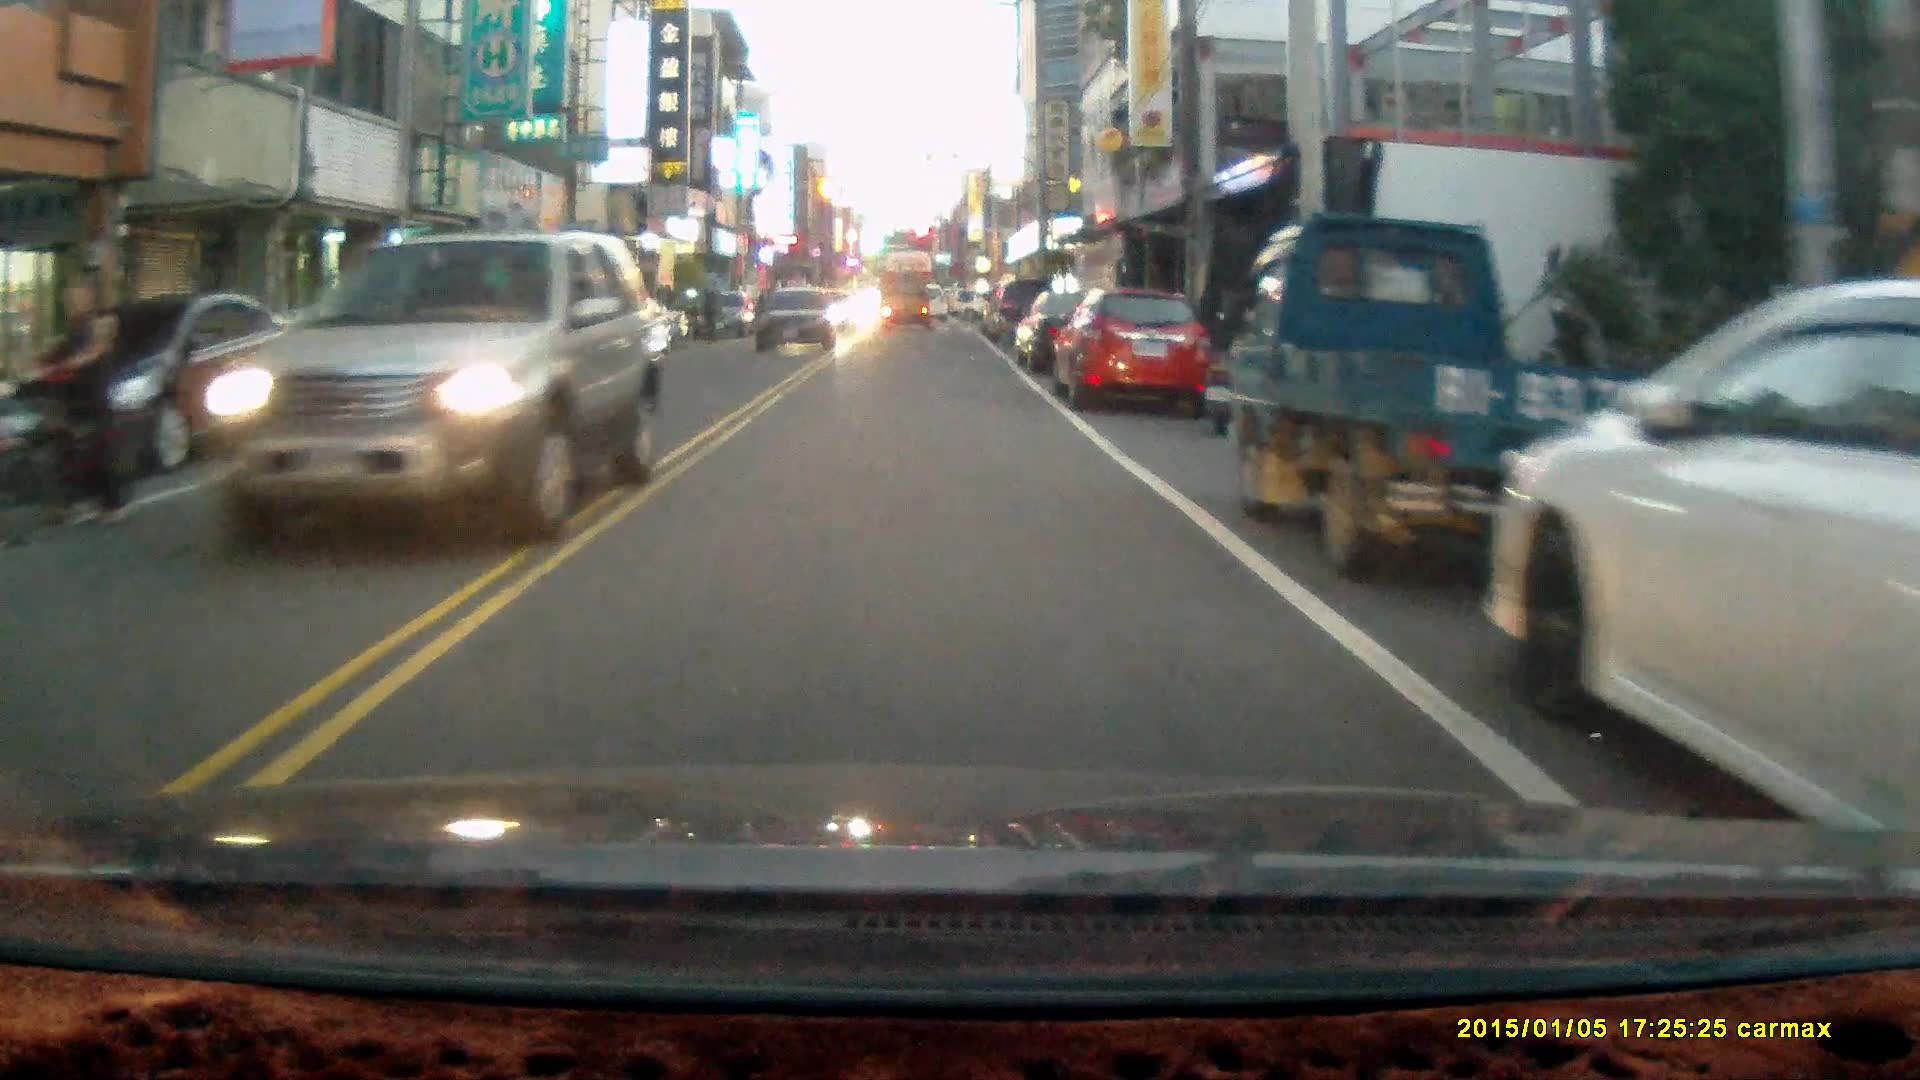pedestrian: (699, 279, 722, 344)
rider: (0, 268, 147, 539)
vehicle: (1483, 284, 1920, 882), (1226, 215, 1694, 587), (199, 233, 658, 549), (1056, 291, 1213, 415), (1009, 287, 1146, 382), (760, 286, 835, 357), (878, 277, 934, 334)
